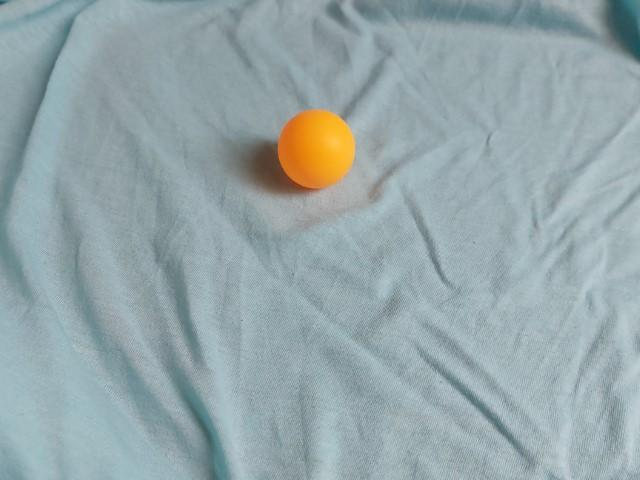oball: (271, 103, 363, 196)
